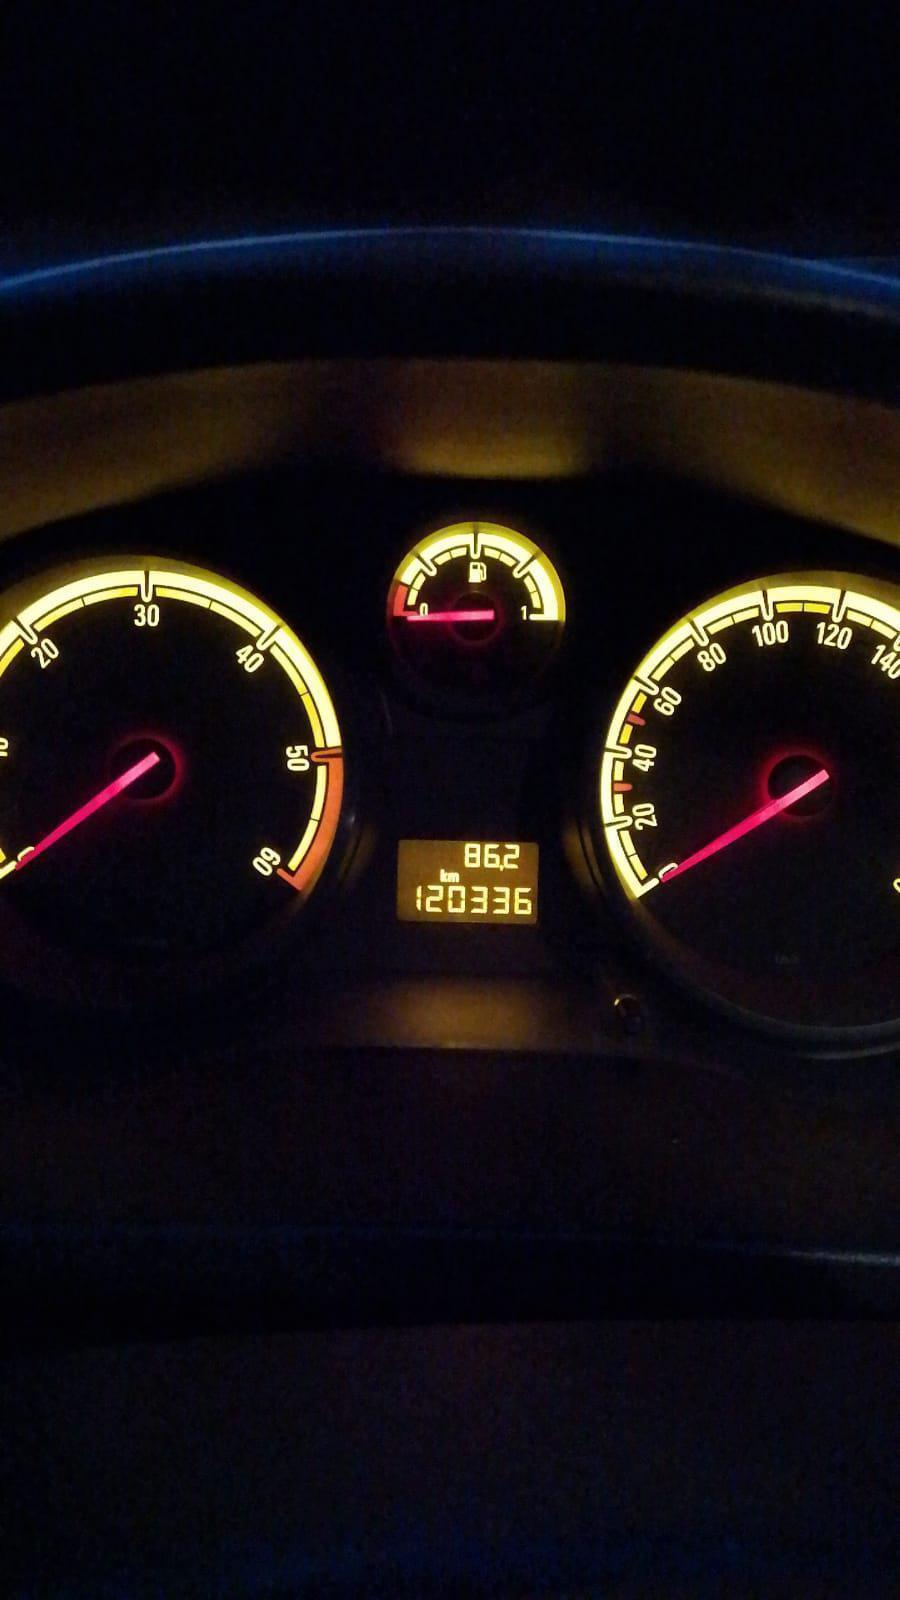,: (499, 864, 504, 871)
0: (446, 885, 466, 913)
1: (414, 885, 421, 912)
2: (424, 884, 444, 912), (502, 843, 519, 869)
3: (469, 886, 488, 914), (492, 886, 510, 914)
6: (513, 887, 532, 914), (484, 843, 500, 868)
8: (463, 842, 481, 868)
X: (447, 871, 460, 882), (438, 868, 448, 882)
odometer: (392, 837, 541, 927)
